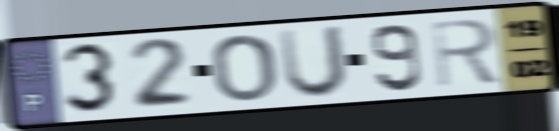2: (125, 36, 197, 114)
3: (57, 40, 123, 118)
9: (369, 22, 424, 93)
O: (209, 32, 280, 105)
R: (427, 16, 503, 91)
U: (275, 22, 351, 102)
